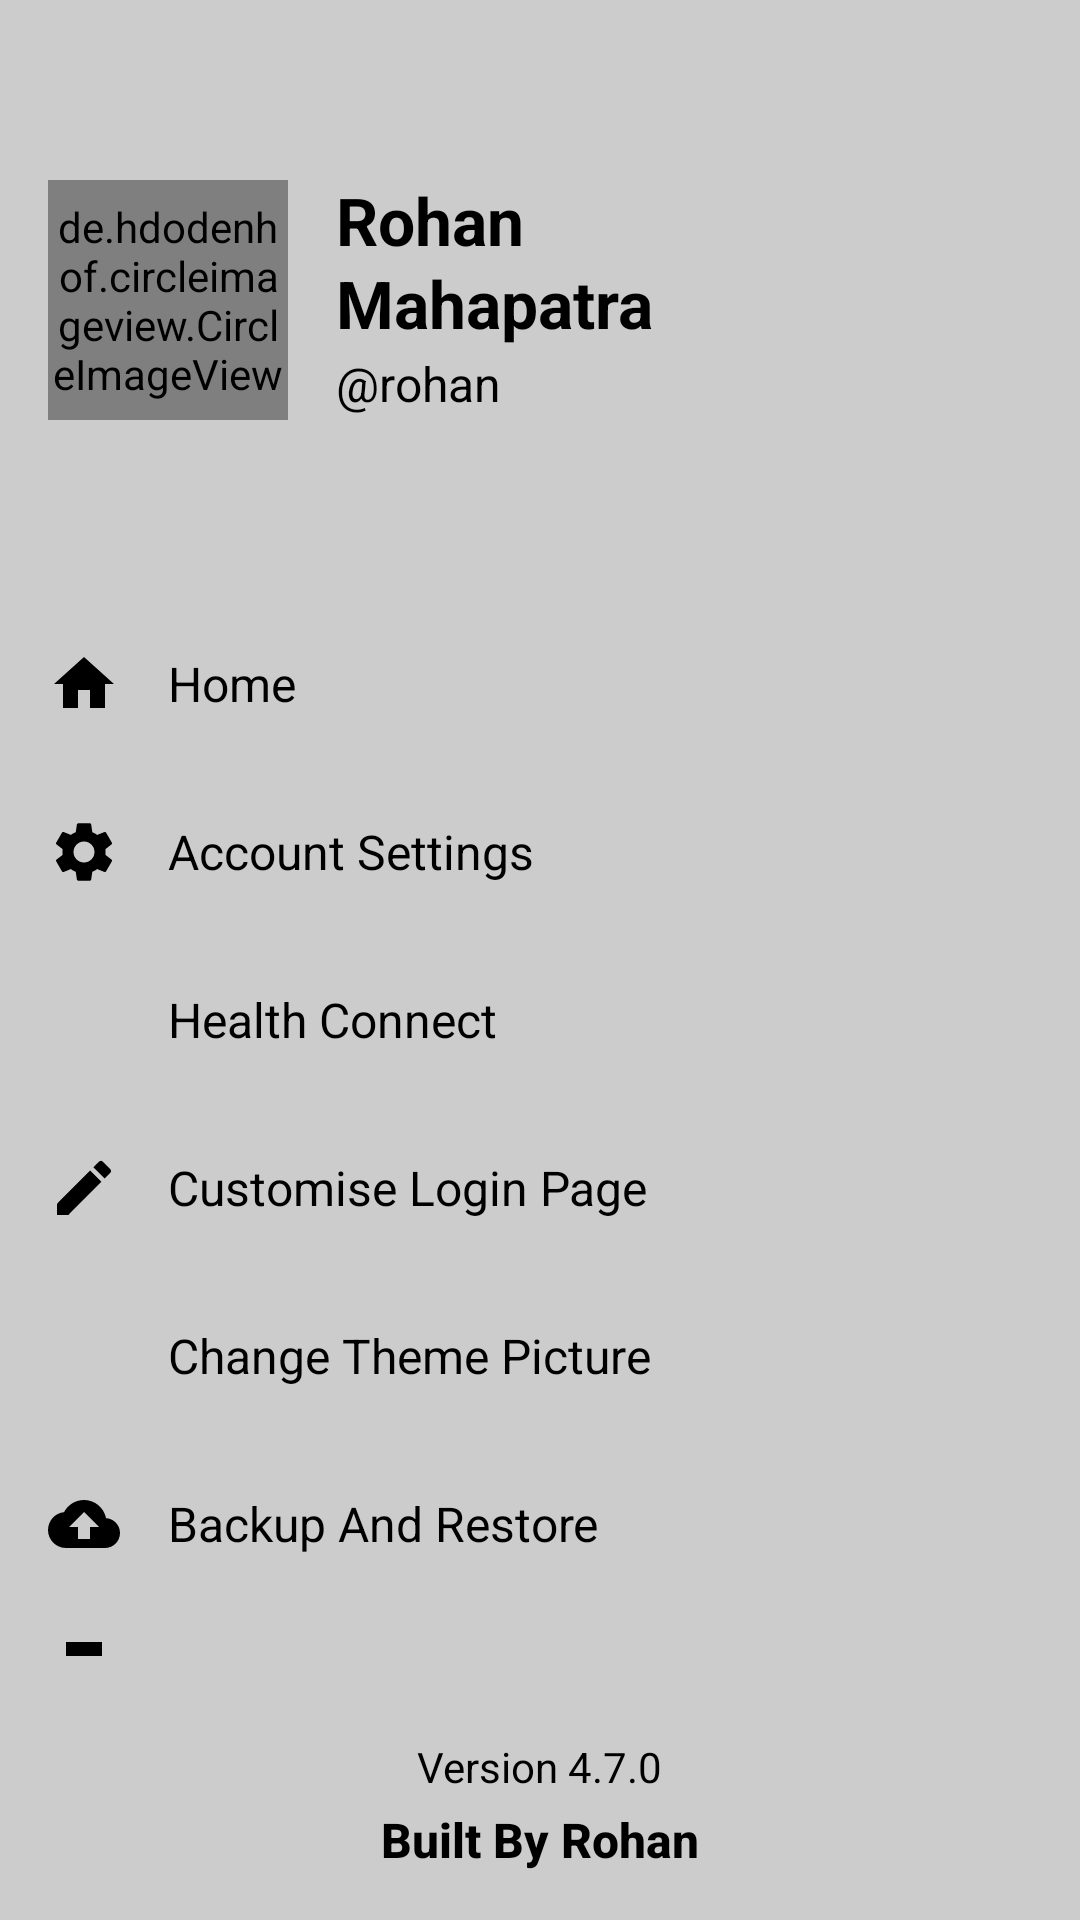

Named icons in this screenshot (1080px x 1920px) and their bounding boxes, [x1, y1, x2, y2]:
pen: [57, 1161, 111, 1215]
